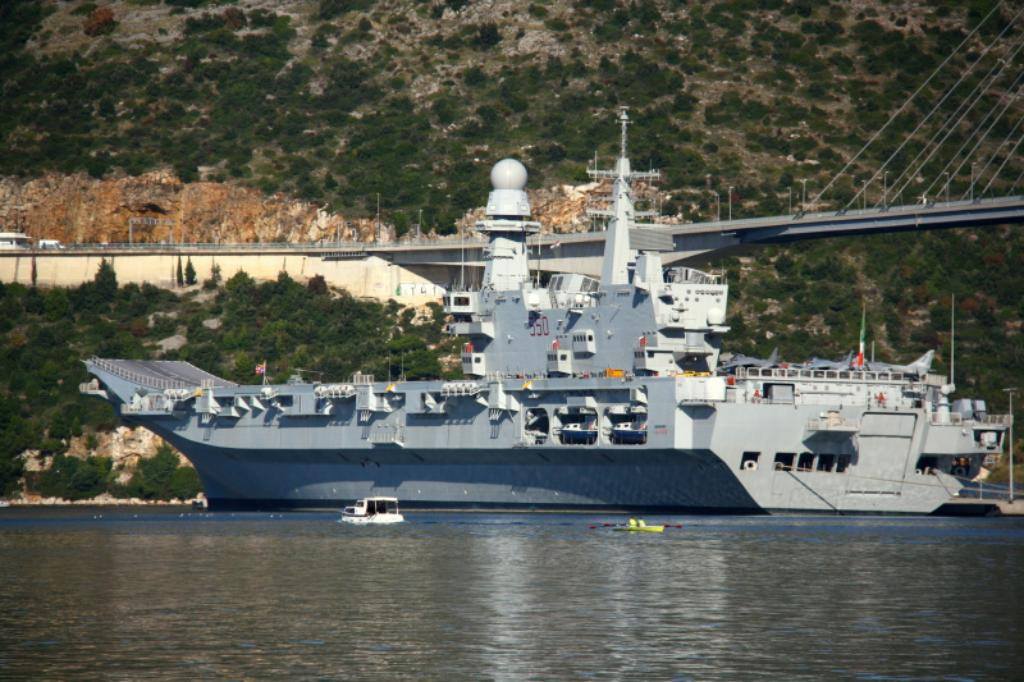Warship: (70, 114, 1018, 530)
